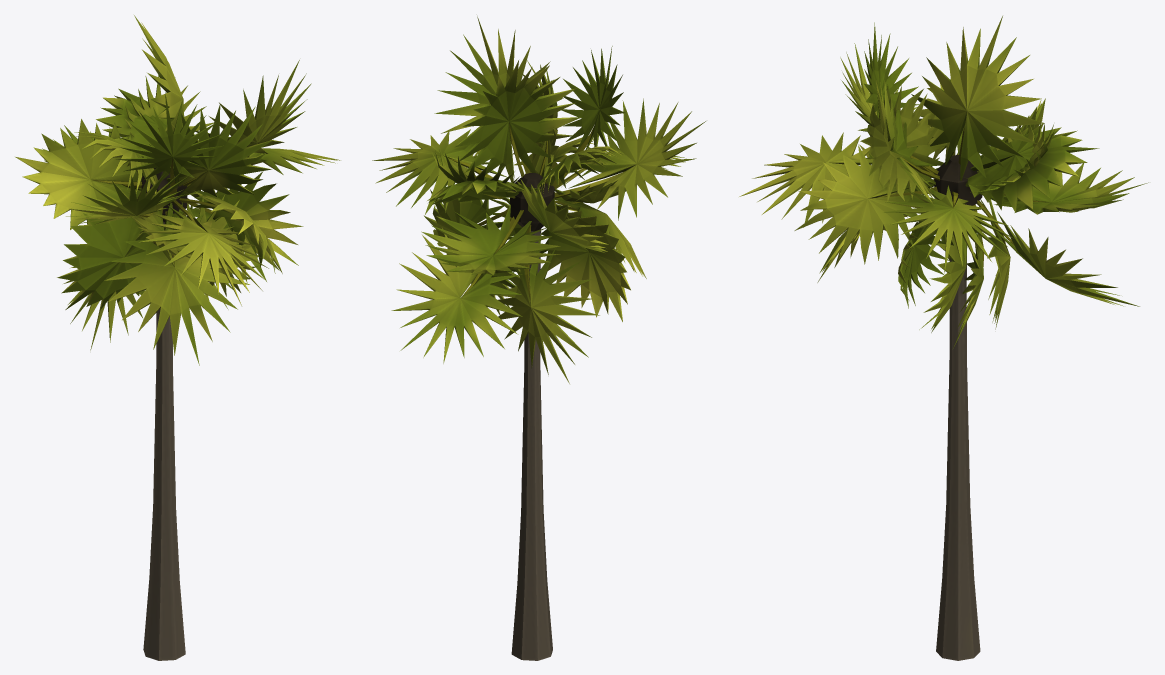
File: palm_tree.512.glb
The picture shows the model from 3 angles, left to right: view 1: azimuth 30°, elevation 25°; view 2: azimuth 150°, elevation 25°; view 3: azimuth 270°, elevation 25°; orthographic projection. The views are drawn at different scales.
Parts seen in each view (by area): view 1: PalmyraPalmTree_mesh; view 2: PalmyraPalmTree_mesh; view 3: PalmyraPalmTree_mesh.
Boxes of the visible parts, <box> form: PalmyraPalmTree_mesh: <box>15,15,340,660</box>; PalmyraPalmTree_mesh: <box>372,16,705,660</box>; PalmyraPalmTree_mesh: <box>739,16,1148,660</box>.
Bounding box in the file's own units: 15.95 × 31.38 × 18.6.
Materials: 1 (1 with a texture image).
